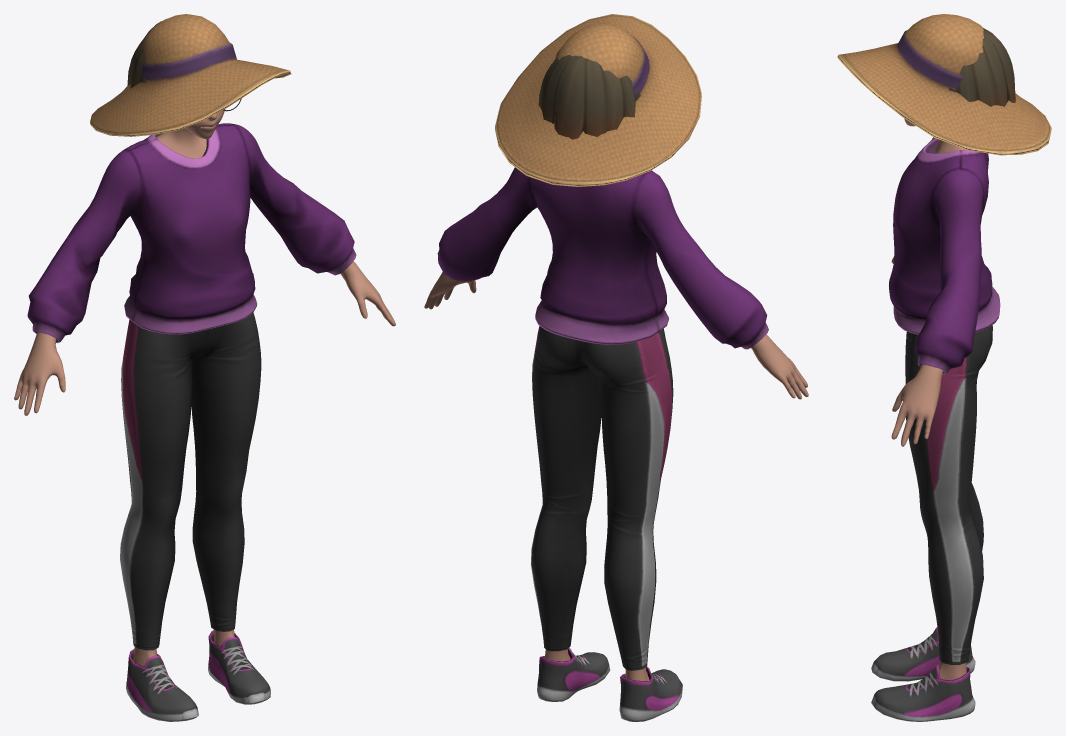
Rendered from Old Tourist 2_Mesh.obj.
3 views of the same model, side by side, from view 1: azimuth 30°, elevation 25°; view 2: azimuth 150°, elevation 25°; view 3: azimuth 270°, elevation 25° (orthographic).
Parts seen in each view (by area): view 1: Old Tourist 2_Mesh_0; view 2: Old Tourist 2_Mesh_0; view 3: Old Tourist 2_Mesh_0.
Part boxes in pixels (x1,y1,x2,y2): Old Tourist 2_Mesh_0: (14,14,395,721); Old Tourist 2_Mesh_0: (424,14,808,721); Old Tourist 2_Mesh_0: (837,14,1051,721).
Size of the model in its own units: 1.06 by 1.83 by 0.5252.
Materials: 1 (1 with a texture image).
